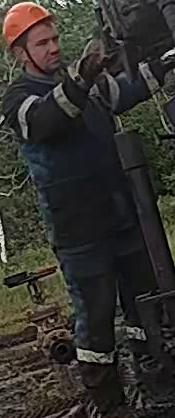gloves: (63, 33, 114, 95)
helmet: (2, 1, 53, 48)
vest: (4, 76, 143, 257)
